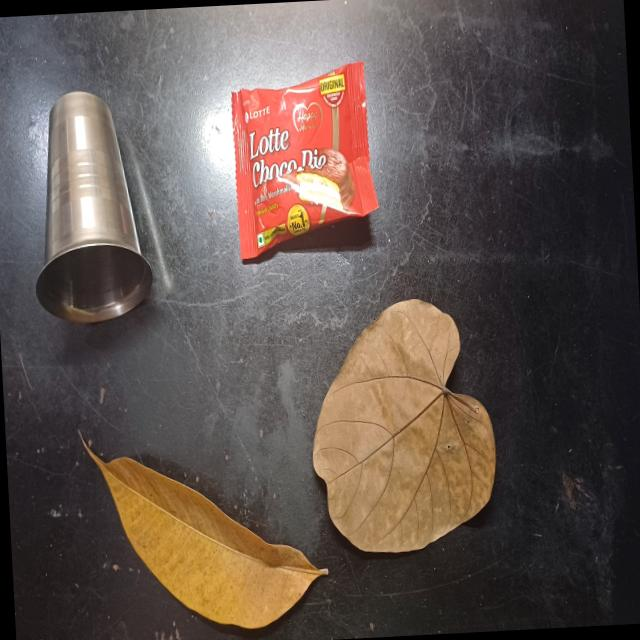Leaf-Bio: (75, 403, 327, 640), (300, 288, 508, 566)
Plastic-NonBio: (224, 52, 382, 270)
Steel-NonBio: (22, 79, 157, 338)
